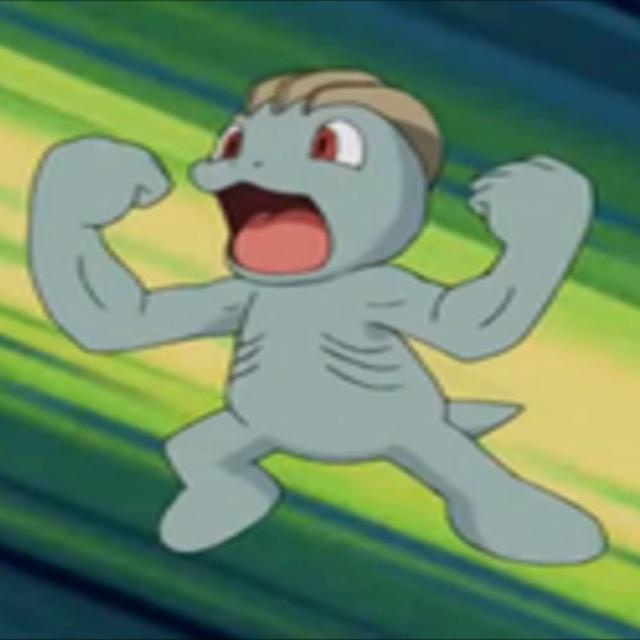Machop: (89, 70, 516, 556)
